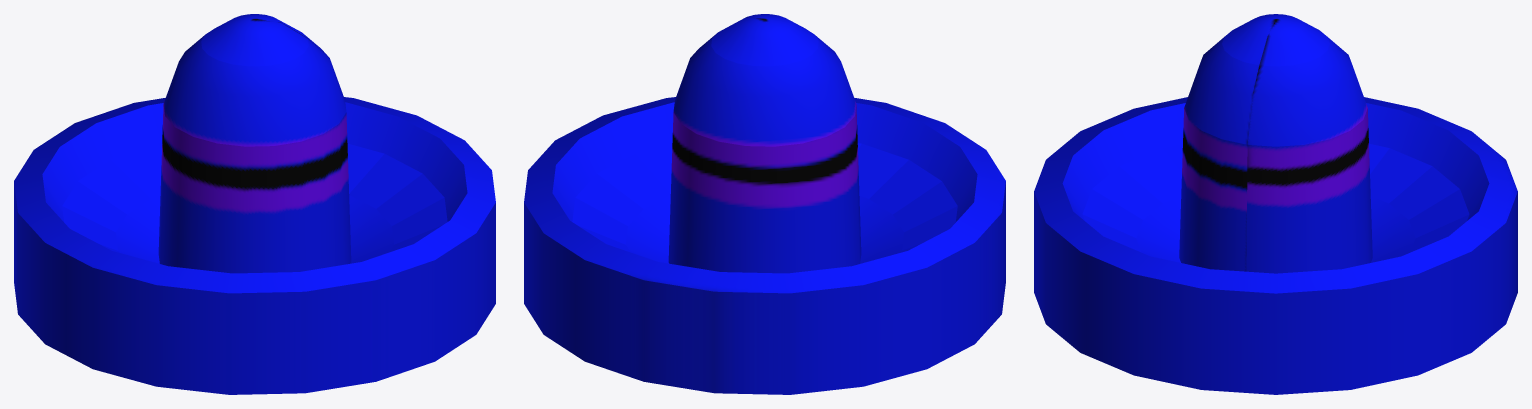
File: Pusher1.fbx
3 renders of one model, left to right at view 1: azimuth 30°, elevation 25°; view 2: azimuth 150°, elevation 25°; view 3: azimuth 270°, elevation 25°, orthographic.
Parts seen in each view (by area): view 1: Pusher1; view 2: Pusher1; view 3: Pusher1.
Boxes of the visible parts, x1,y1,x2,y2 form: Pusher1: [14, 14, 495, 394]; Pusher1: [524, 14, 1005, 394]; Pusher1: [1034, 14, 1517, 394].
Bounding box in the file's own units: 16.06 × 10.01 × 16.06.
